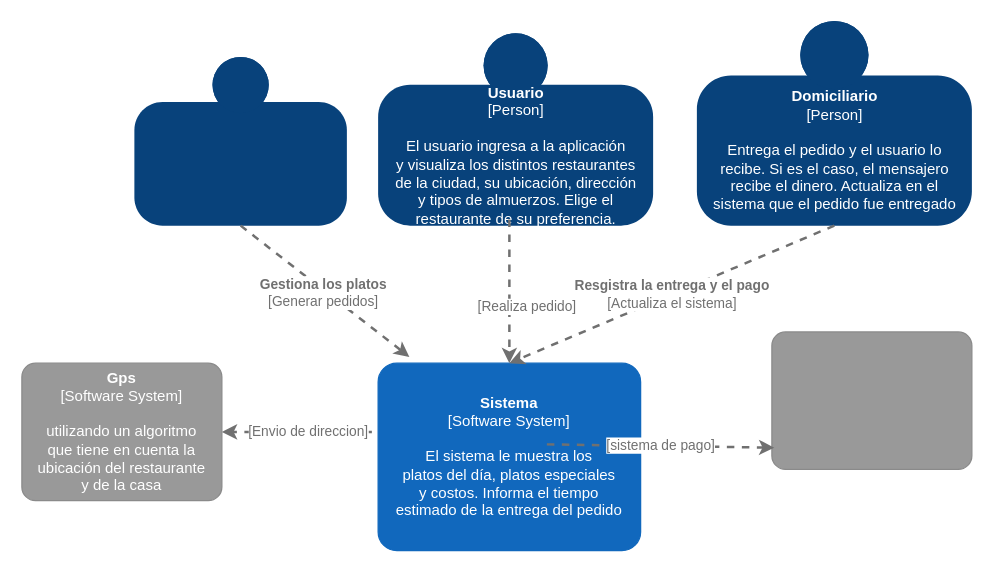
Image size: 994x574. Some labels were removed from this diagram. The centre of each missing label's shape, as x and y in pixels:
Administrador [Person] Registra los diferentes platos del menú de la semana.: point (240, 140)
Pago [Software System] Description: point (871, 400)
